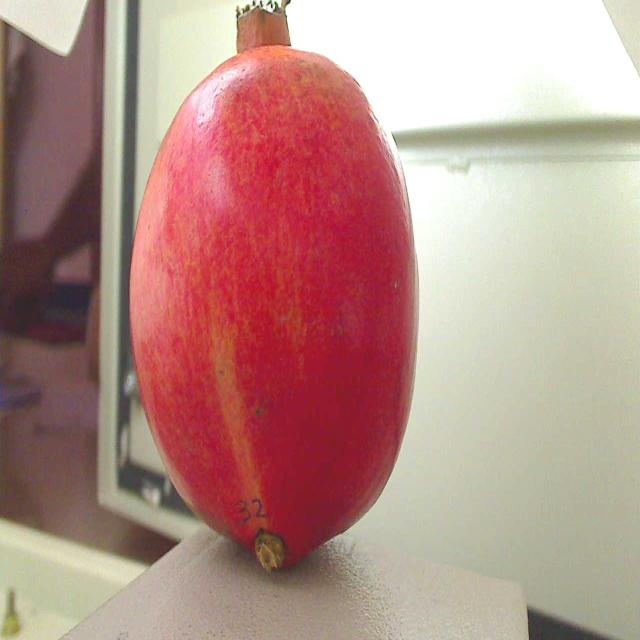pomegranate: (113, 0, 430, 589)
